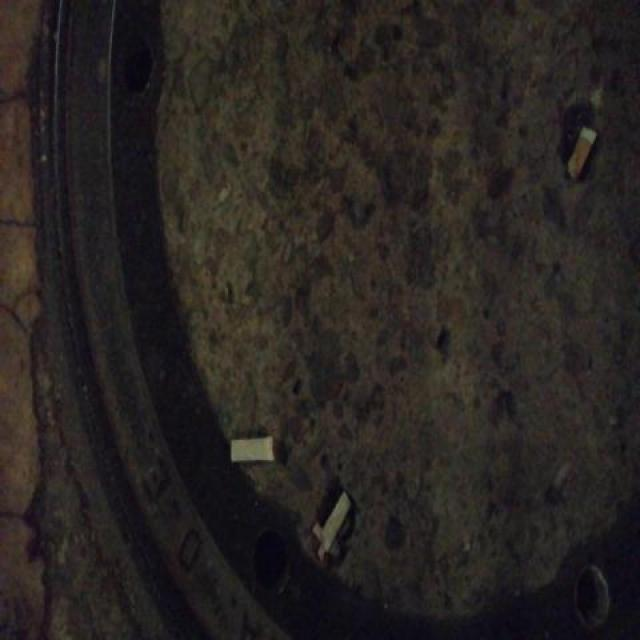non-organic waste: (564, 120, 600, 184), (321, 488, 354, 556), (229, 435, 279, 465)
